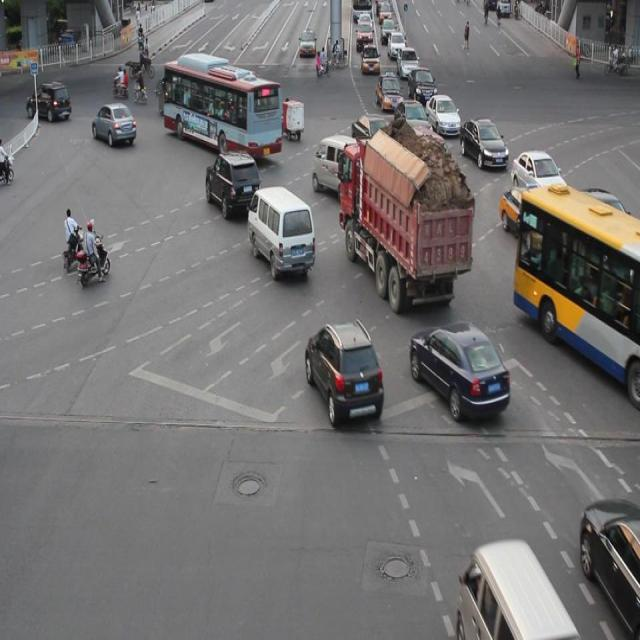bus: (338, 143, 471, 310)
car: (410, 319, 510, 418), (579, 499, 640, 640), (305, 319, 382, 425), (574, 187, 640, 268), (497, 185, 562, 252), (205, 148, 260, 218), (509, 149, 570, 209), (460, 118, 508, 168), (405, 127, 448, 178), (91, 102, 138, 146), (351, 112, 394, 159), (392, 98, 432, 140), (424, 93, 459, 138)
truck: (455, 537, 576, 640), (246, 186, 315, 273), (311, 134, 364, 193)
van: (514, 187, 640, 395), (162, 60, 282, 156)
